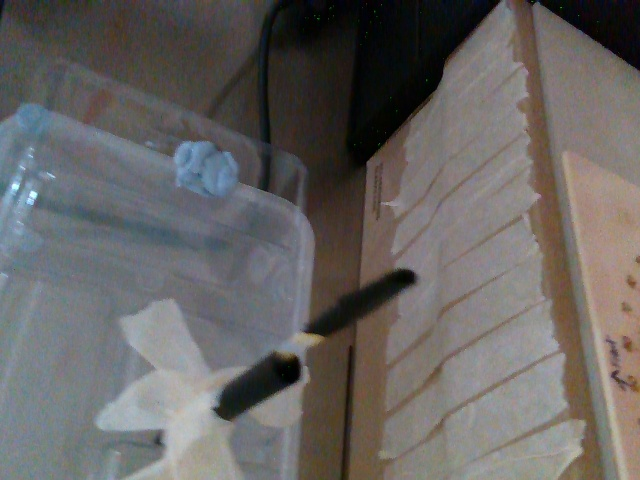test_strip: (273, 267, 414, 355)
